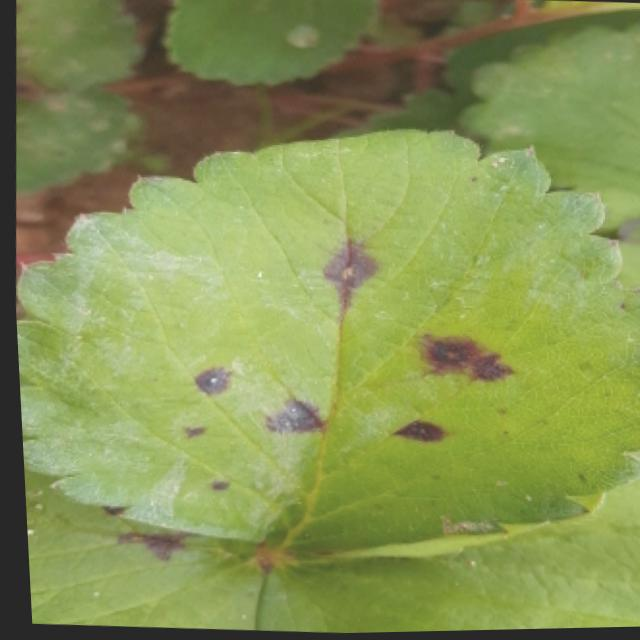Leaf Spot: (13, 126, 640, 560), (247, 478, 640, 635), (19, 465, 266, 631), (15, 0, 145, 94)
